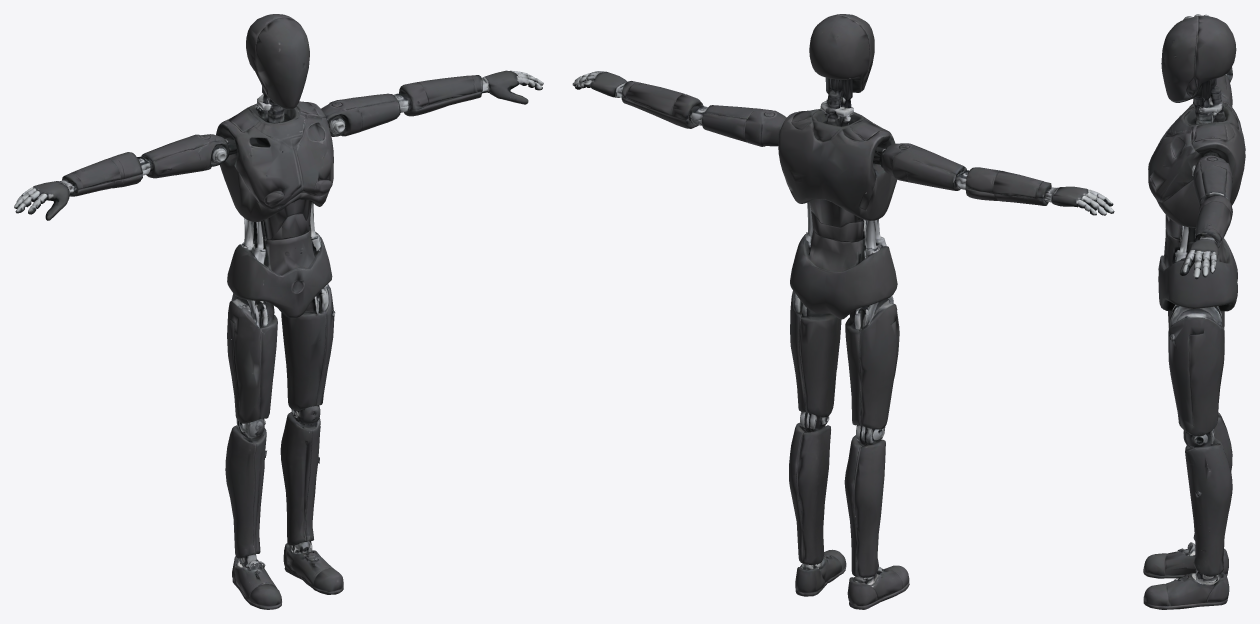
Rendered from tripo_h31_articulated_artist_mannequin.glb.
3 views of the same model, side by side, from view 1: azimuth 30°, elevation 25°; view 2: azimuth 150°, elevation 25°; view 3: azimuth 270°, elevation 25° (orthographic). The views are drawn at different scales.
Parts seen in each view (by area): view 1: tripo_node_355c47f7-85fc-4830-a35f-b61f8cd8213a; view 2: tripo_node_355c47f7-85fc-4830-a35f-b61f8cd8213a; view 3: tripo_node_355c47f7-85fc-4830-a35f-b61f8cd8213a.
Boxes of the visible parts, x1=… form: tripo_node_355c47f7-85fc-4830-a35f-b61f8cd8213a: x1=14, y1=14, x2=543, y2=609; tripo_node_355c47f7-85fc-4830-a35f-b61f8cd8213a: x1=572, y1=14, x2=1114, y2=609; tripo_node_355c47f7-85fc-4830-a35f-b61f8cd8213a: x1=1143, y1=14, x2=1245, y2=609.
Bounding box in the file's own units: 0.9573 × 0.9785 × 0.1591.
Materials: 1 (1 with a texture image).
